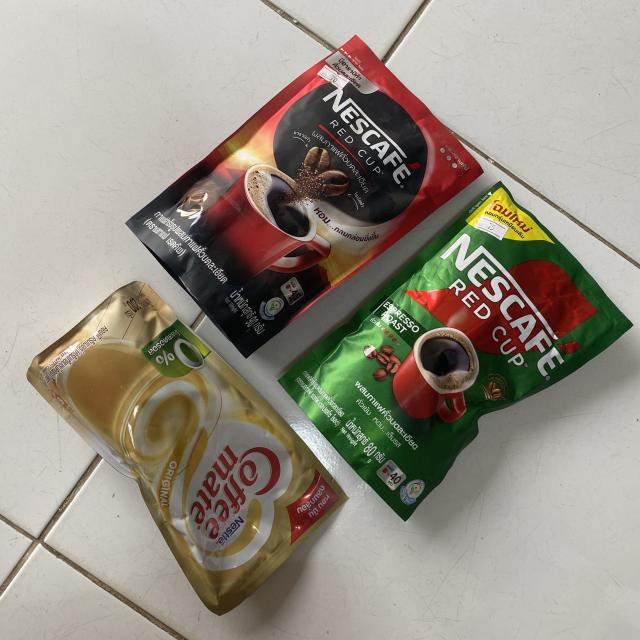plastik: (280, 182, 631, 520), (128, 36, 482, 356), (28, 281, 346, 614)
